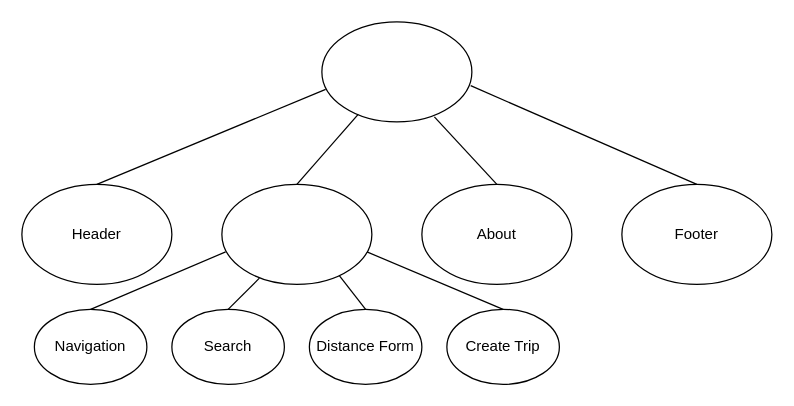
The diagram is 794 pixels wide and 406 high, and some of its shapes have lost their labels. The box of each missing label's shape, as (x1, y1, x2, y2) in pixels:
App: (321, 21, 472, 122)
Atlas: (221, 183, 372, 284)
